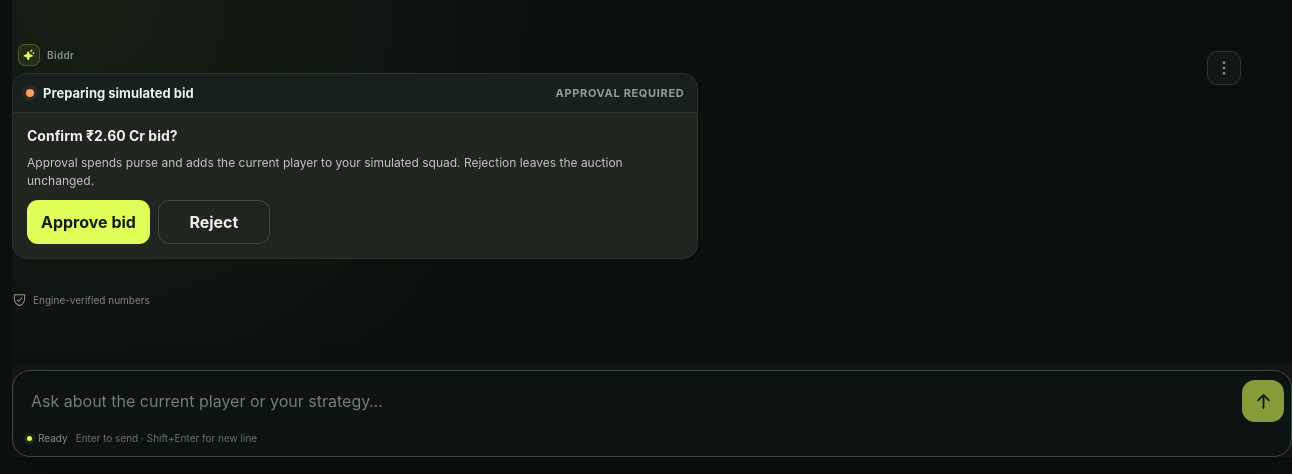
Test: Copilot chat › submits an approval decision when choosing Approve bid
Click the button "Approve bid" at [88, 222], box [27,200,150,244]
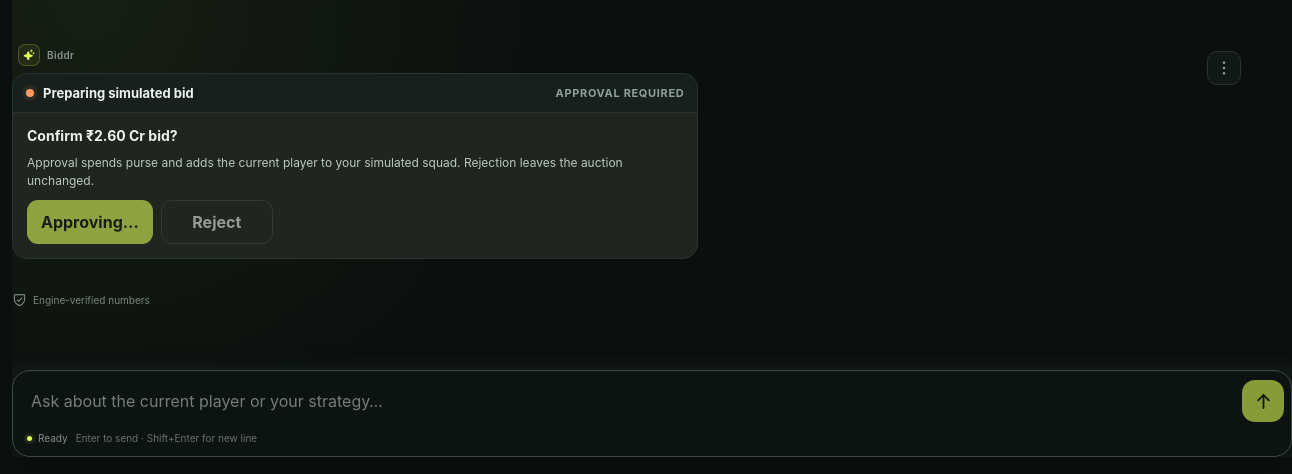
Expected: the button "Approving…" is disabled, [27,200,153,244]
